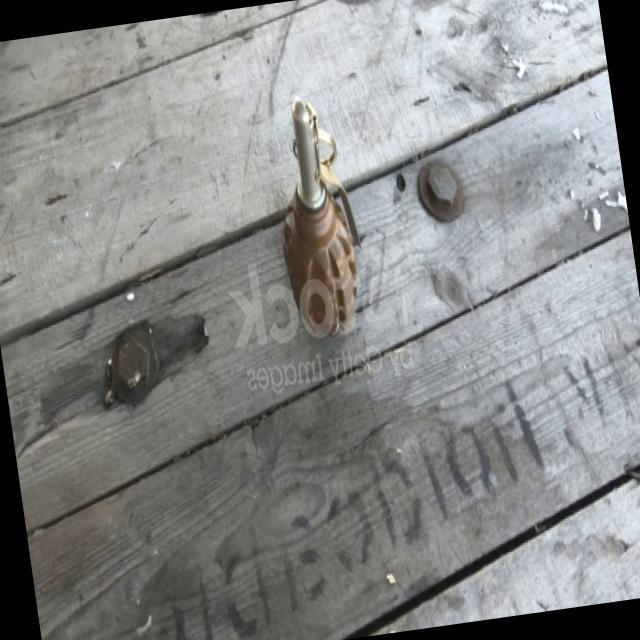grenade: (259, 94, 378, 357)
